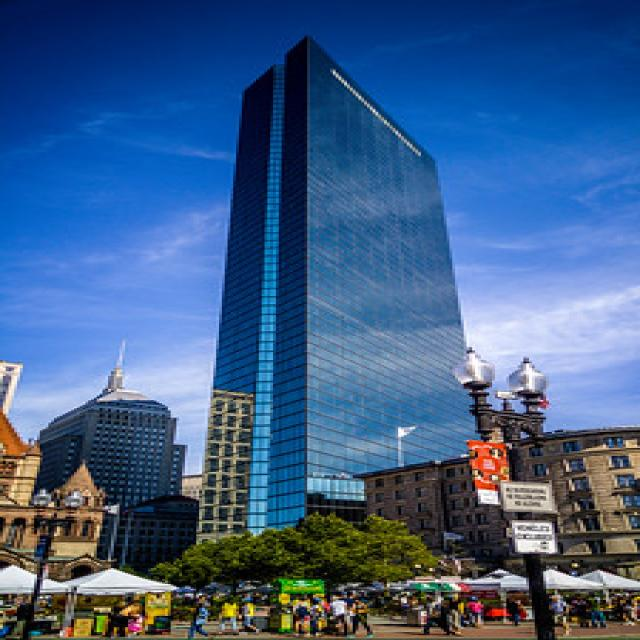building: (192, 29, 499, 574)
